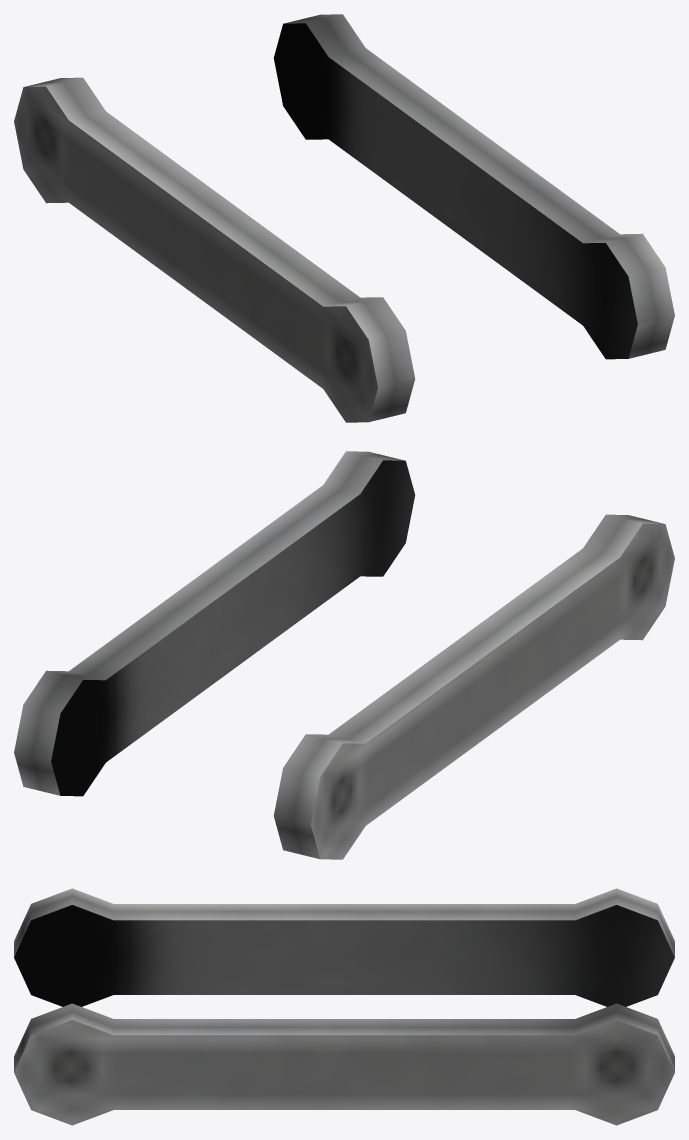
The model's file is hgarm.obj.
The picture shows the model from 3 angles, top to bottom: view 1: azimuth 30°, elevation 25°; view 2: azimuth 150°, elevation 25°; view 3: azimuth 270°, elevation 25°; orthographic projection. The views are drawn at different scales.
Parts seen in each view (by area): view 1: 1; view 2: 1; view 3: 1.
Boxes of the visible parts, x1,y1,x2,y2 form: 1: [14, 14, 674, 422]; 1: [14, 451, 674, 859]; 1: [14, 888, 674, 1125].
Bounding box in the file's own units: 0.1 × 0.0375 × 0.2125.
1 material, 1 textured.
